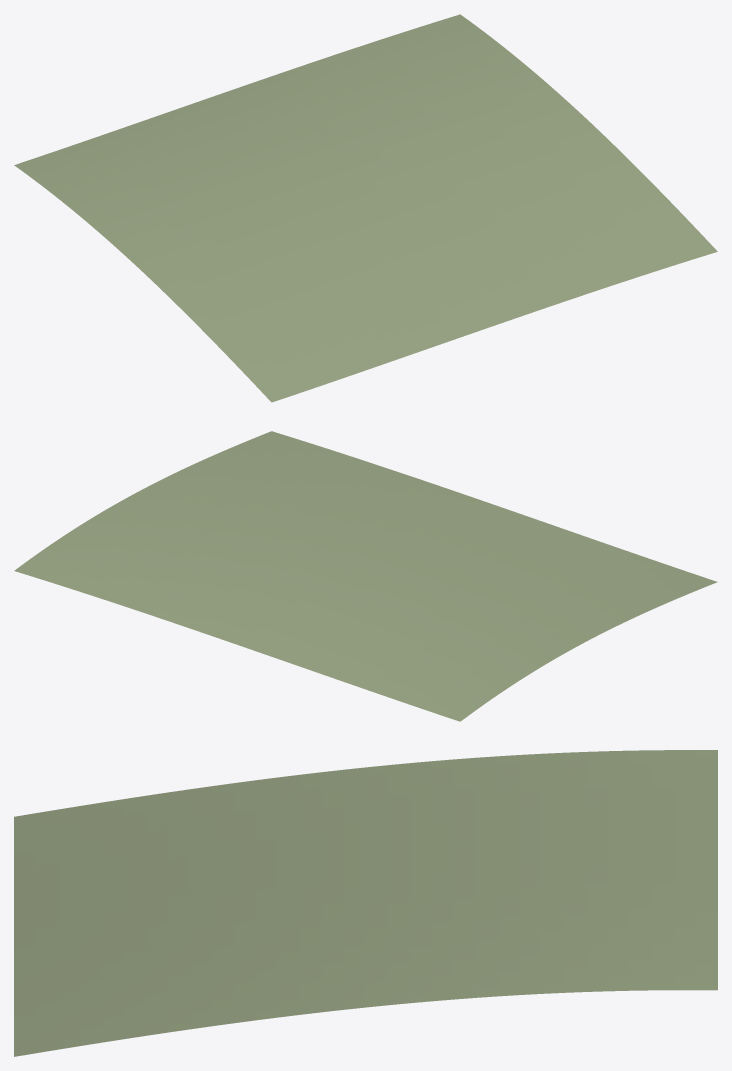
The model's file is valley-14-15.glb.
3 views of the same model, one above another, from view 1: azimuth 30°, elevation 25°; view 2: azimuth 150°, elevation 25°; view 3: azimuth 270°, elevation 25° (orthographic). The views are drawn at different scales.
Parts seen in each view (by area): view 1: valley-14-15; view 2: valley-14-15; view 3: valley-14-15.
Part boxes in pixels (x1,y1,x2,y2): valley-14-15: (14,14,717,402); valley-14-15: (14,431,717,721); valley-14-15: (14,750,717,1056).
Bounding box in the file's own units: 256 × 49.81 × 256.
